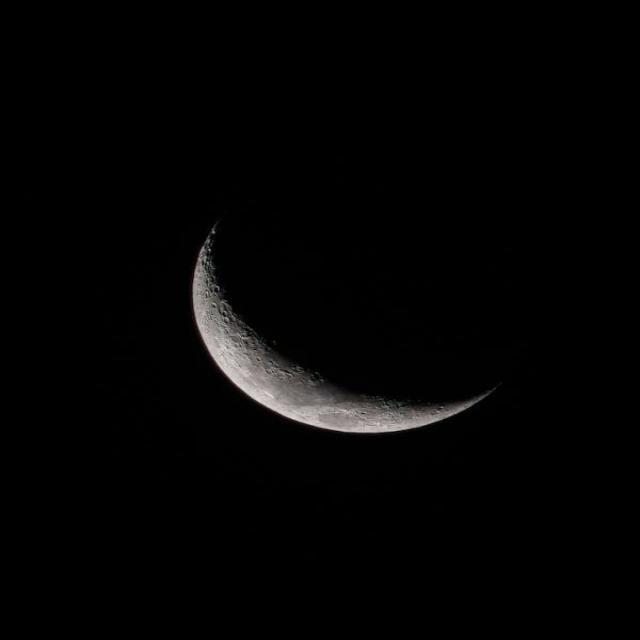moon: (175, 168, 538, 458)
